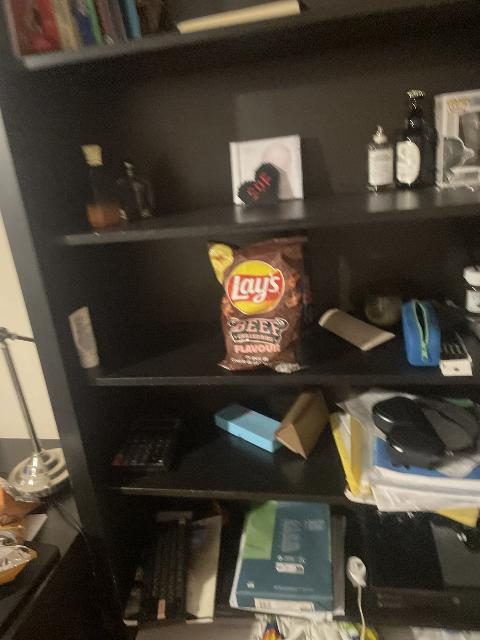Lays Beef Grilled Ribs 125g: (208, 238, 309, 370)
